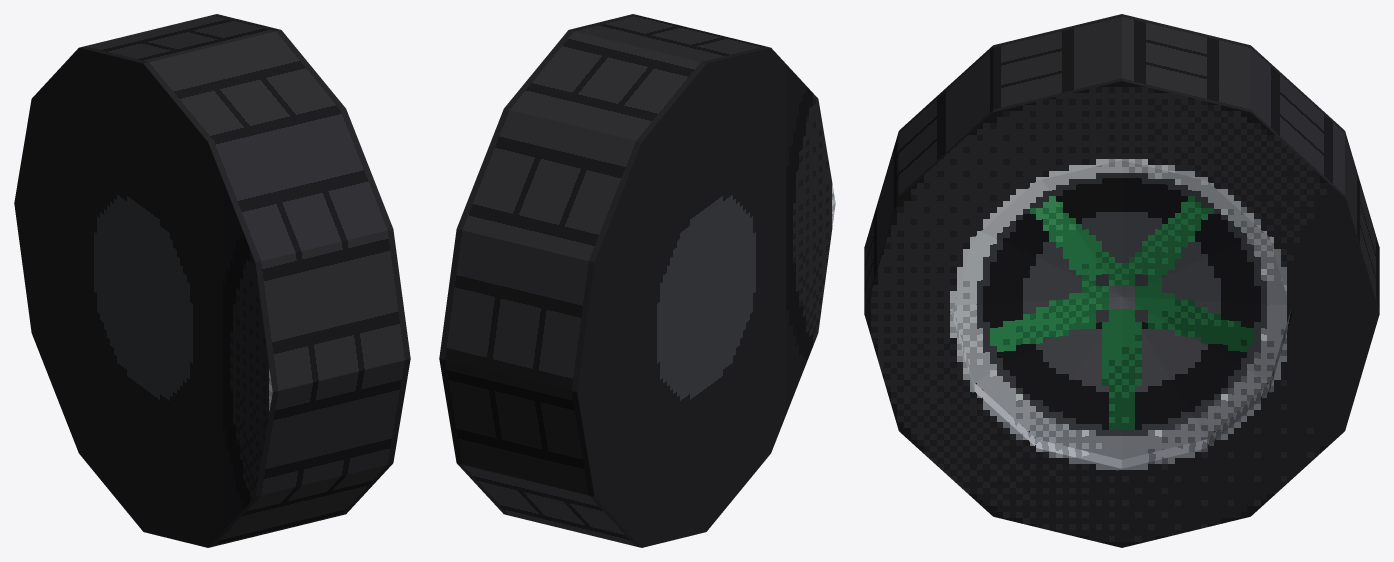
The model's file is wheel_five.glb.
3 views of the same model, side by side, from view 1: azimuth 30°, elevation 25°; view 2: azimuth 150°, elevation 25°; view 3: azimuth 270°, elevation 25° (orthographic).
Parts seen in each view (by area): view 1: wheel_five; view 2: wheel_five; view 3: wheel_five.
Part boxes in pixels (left/top/right/bottom): wheel_five: left=14, top=14, right=410, bottom=547; wheel_five: left=439, top=14, right=835, bottom=547; wheel_five: left=864, top=14, right=1379, bottom=547.
Size of the model in its own units: 0.225 by 0.7301 by 0.7301.
Materials: 1 (1 with a texture image).
